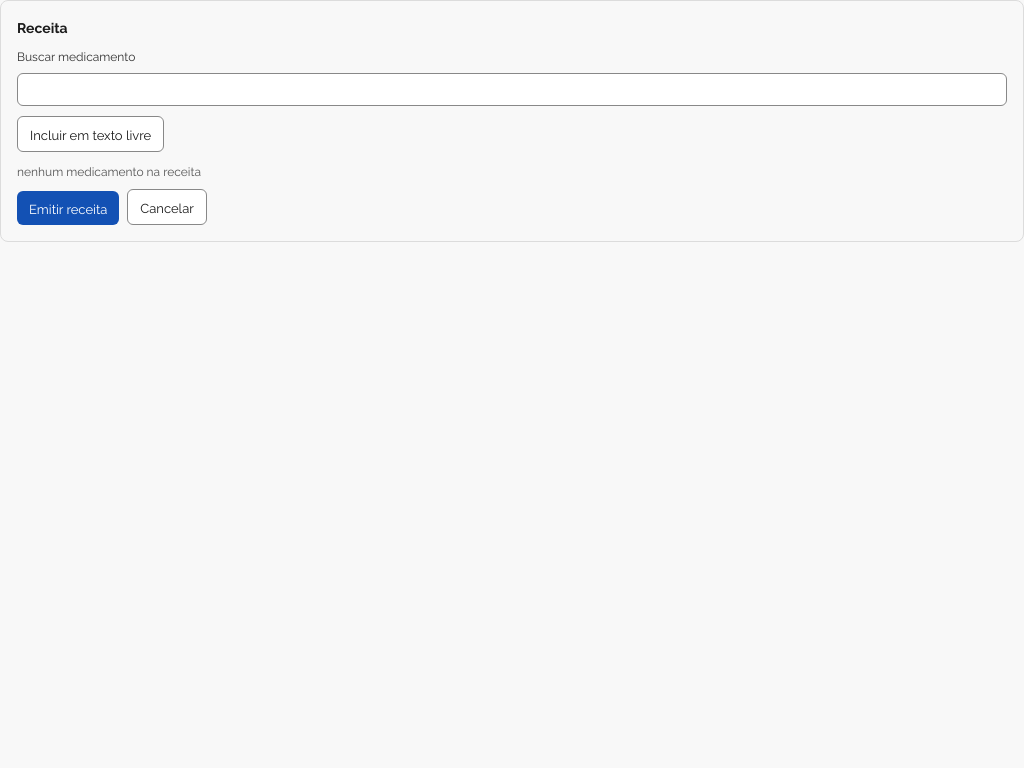
PrescriptionForm › faltando campo: lista o que falta por item e não manda
Click the button "Emitir receita".
click(68, 208)  # box [17,191,119,225]
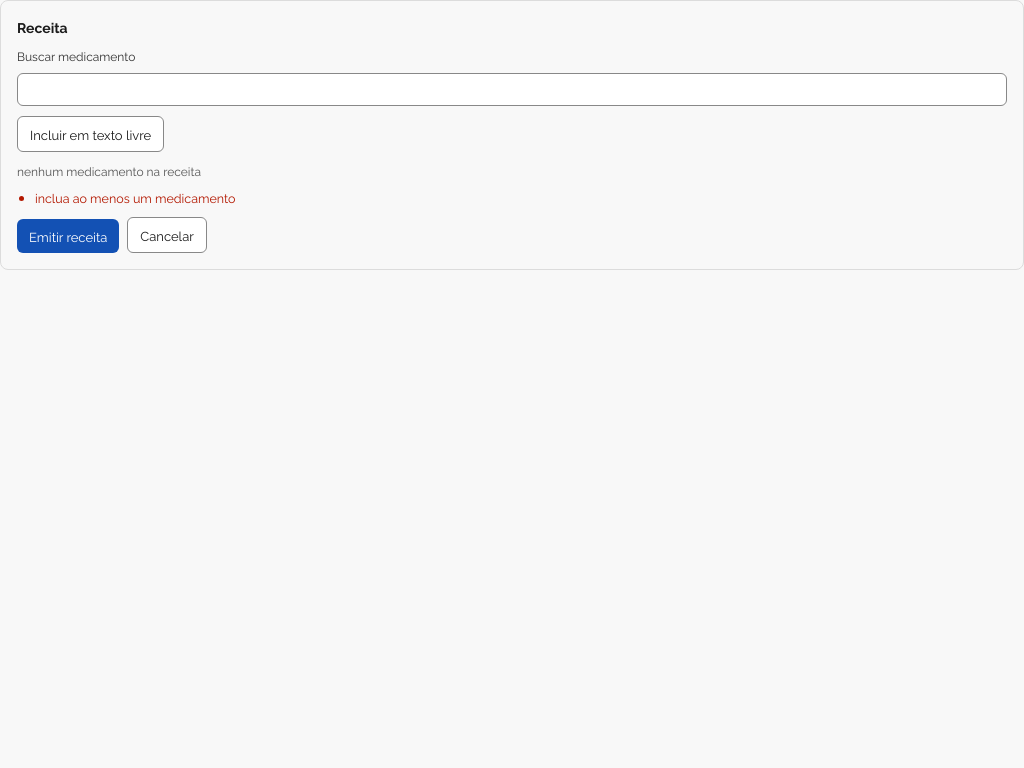
Now the message reads "inclua ao menos um medicamento", box [35,189,236,206]
Click the button "Incluir em texto livre".
click(91, 134)  # box [17,116,164,152]
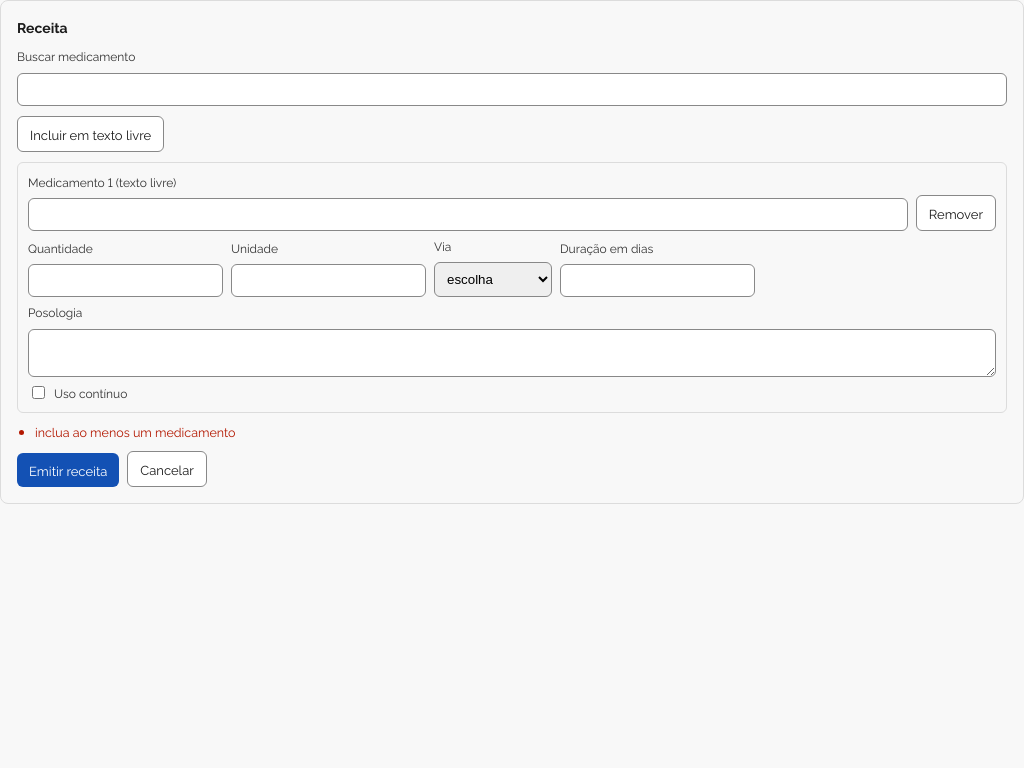
Click the button "Emitir receita".
click(68, 470)  # box [17,453,119,487]
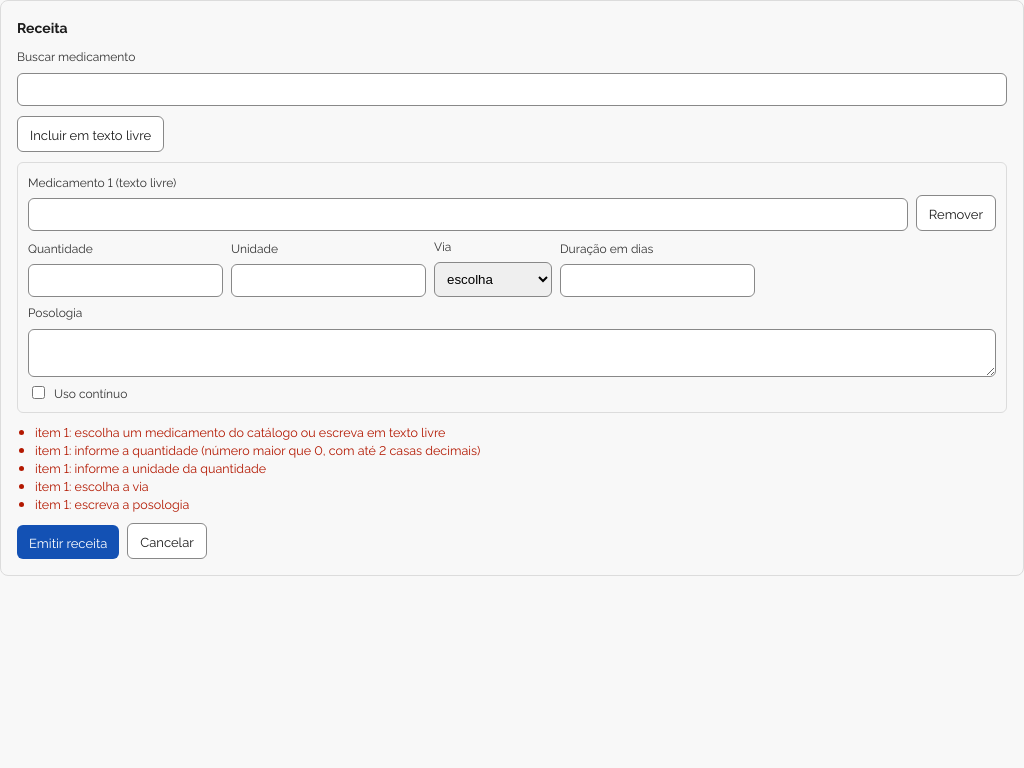
Now the 2nd list item reads "item 1: escolha um medicamento do catálogo ou escreva em texto livre", box [35,423,445,440]
Now the list item "item 1: escolha a via" is shown, box [35,477,149,494]
